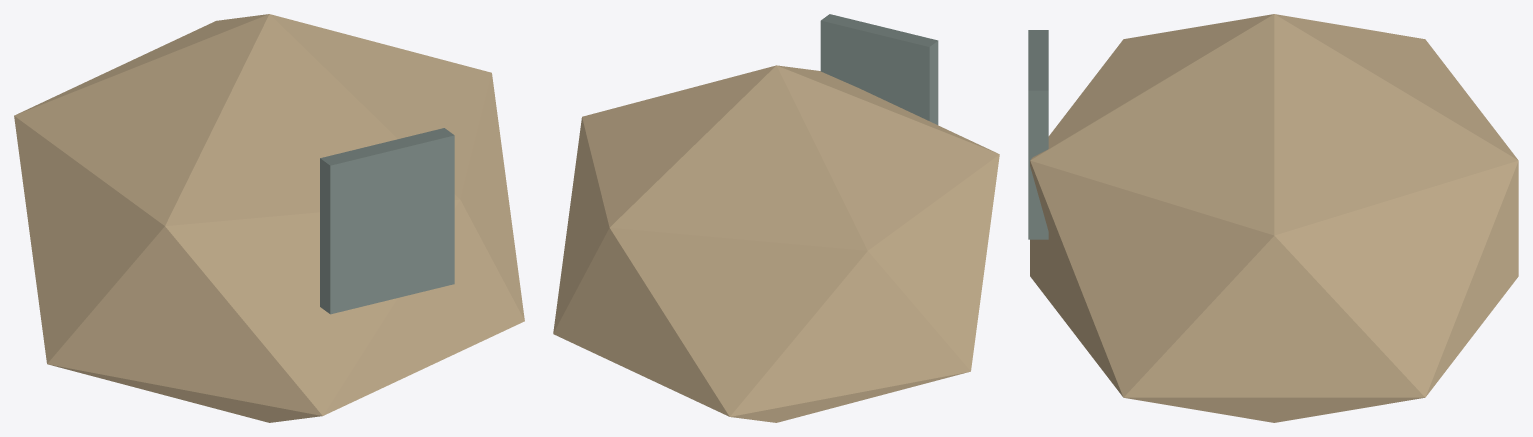
The model's file is SM_Tienda_v2_Iglu_LOD1.fbx.
The picture shows the model from 3 angles, left to right: view 1: azimuth 30°, elevation 25°; view 2: azimuth 150°, elevation 25°; view 3: azimuth 270°, elevation 25°; orthographic projection. The views are drawn at different scales.
Visible parts, largest first — view 1: SM_vida_fuerte_v17_LOD1; view 2: SM_vida_fuerte_v17_LOD1; view 3: SM_vida_fuerte_v17_LOD1.
Boxes of the visible parts, box(x1,y1,x2,y2) form: SM_vida_fuerte_v17_LOD1: box(14, 14, 524, 422); SM_vida_fuerte_v17_LOD1: box(553, 14, 999, 422); SM_vida_fuerte_v17_LOD1: box(1028, 14, 1518, 422).
Size of the model in its own units: 2.5 by 2.2 by 2.39.
